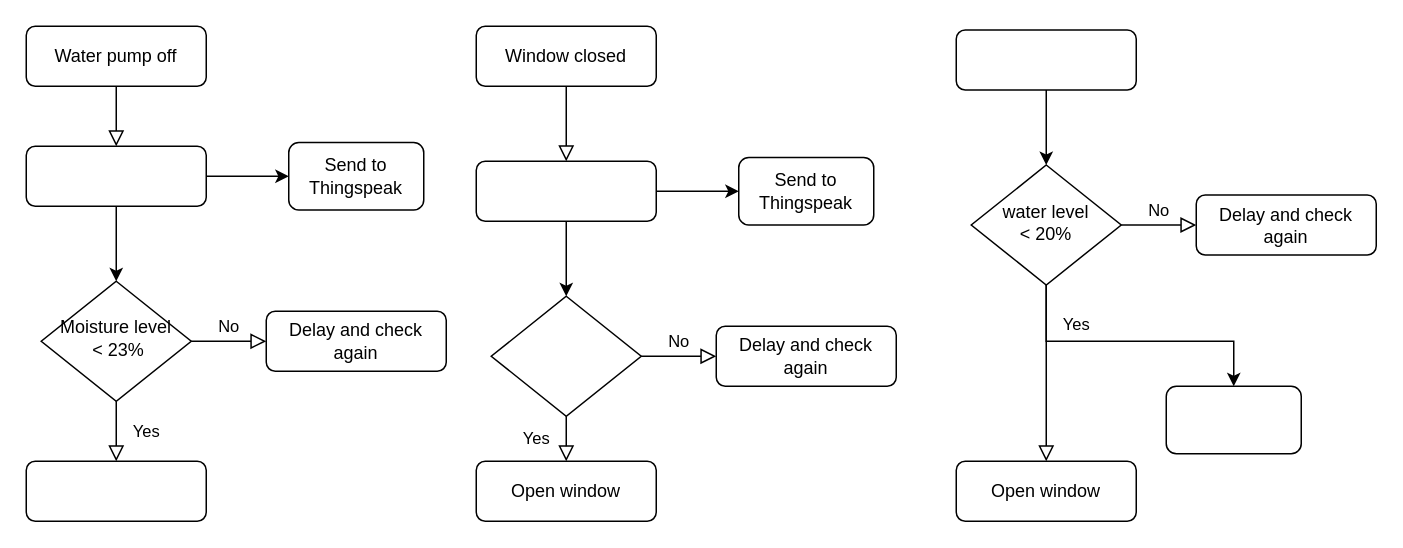
The diagram is 1403 pixels wide and 548 high, and some of its shapes have lost their labels. The shapes that lost their labels are listed below. From the top down, each one's centre as x and y in pixels, then its label:
At pixel 1045 59: "Read water level".
At pixel 115 175: "Read moisture".
At pixel 565 190: "Read temp and hum".
At pixel 565 355: "Temp > 30 || Humidity > 35".
At pixel 1233 419: "Signal Thingspeak".
At pixel 115 490: "Water plant and turn on blue led".
